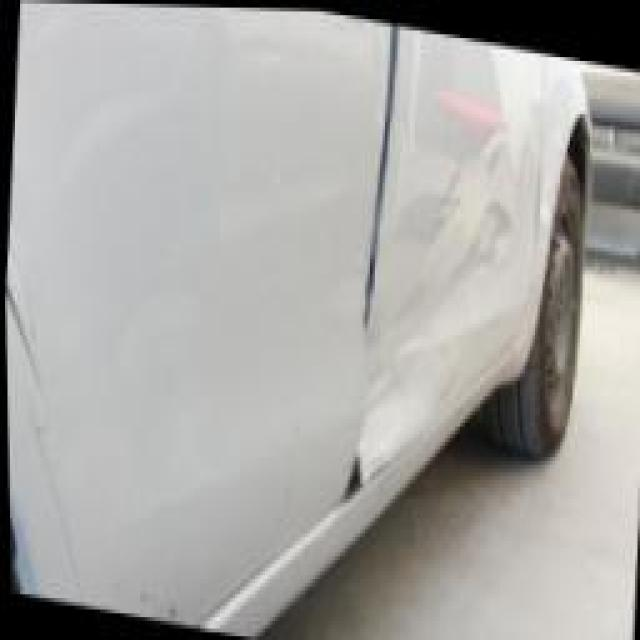Door: (354, 185, 474, 485)
